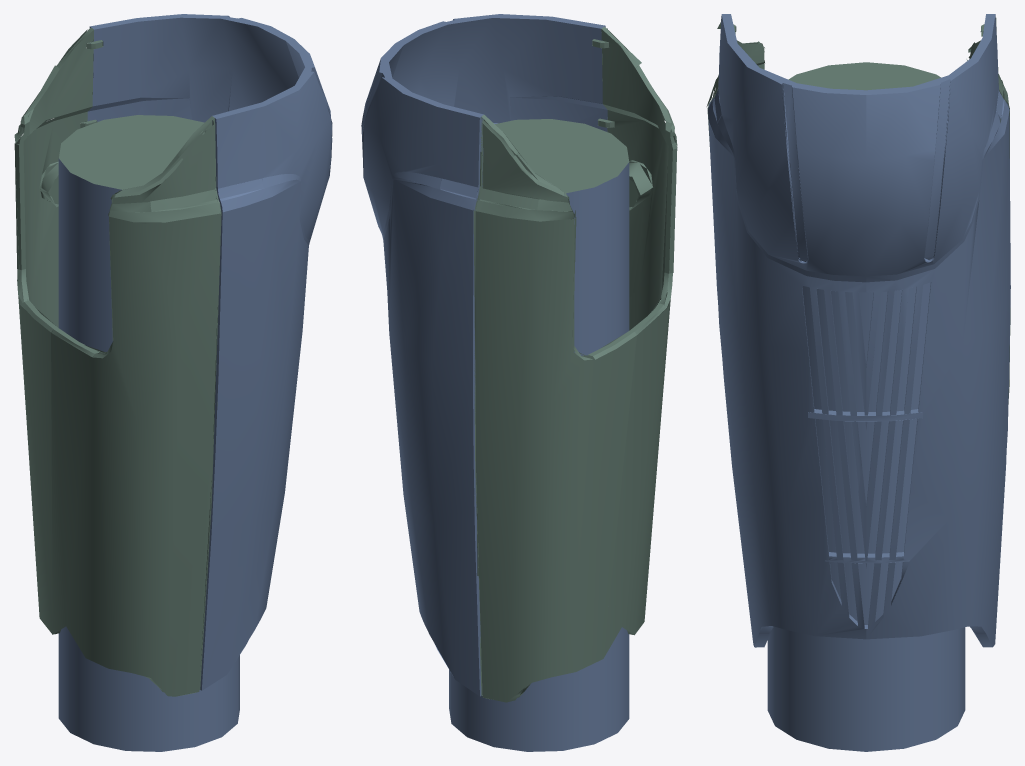
Rendered from icub_r_shank.dae.
3 renders of one model, left to right at view 1: azimuth 30°, elevation 25°; view 2: azimuth 150°, elevation 25°; view 3: azimuth 270°, elevation 25°, orthographic. The views are drawn at different scales.
Parts seen in each view (by area): view 1: r_lowerleg_mesh, r_shank_cyl_mesh; view 2: r_lowerleg_mesh, r_shank_cyl_mesh; view 3: r_lowerleg_mesh, r_shank_cyl_mesh.
Boxes of the visible parts, x1,y1,x2,y2 form: r_lowerleg_mesh: [14, 14, 332, 696]; r_shank_cyl_mesh: [58, 115, 239, 751]; r_lowerleg_mesh: [361, 14, 677, 702]; r_shank_cyl_mesh: [449, 119, 629, 751]; r_lowerleg_mesh: [706, 14, 1010, 647]; r_shank_cyl_mesh: [767, 62, 965, 751].
Size of the model in its own units: 0.1035 by 0.2446 by 0.097.
